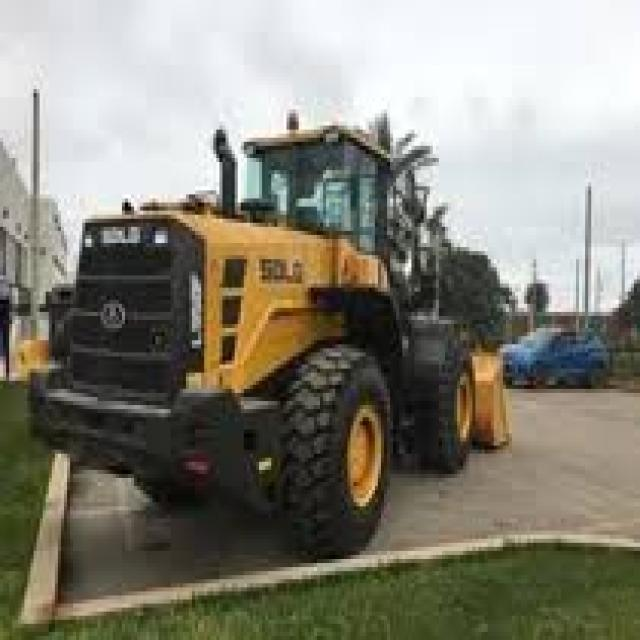buldozerpayloadergrader: (32, 115, 485, 561)
